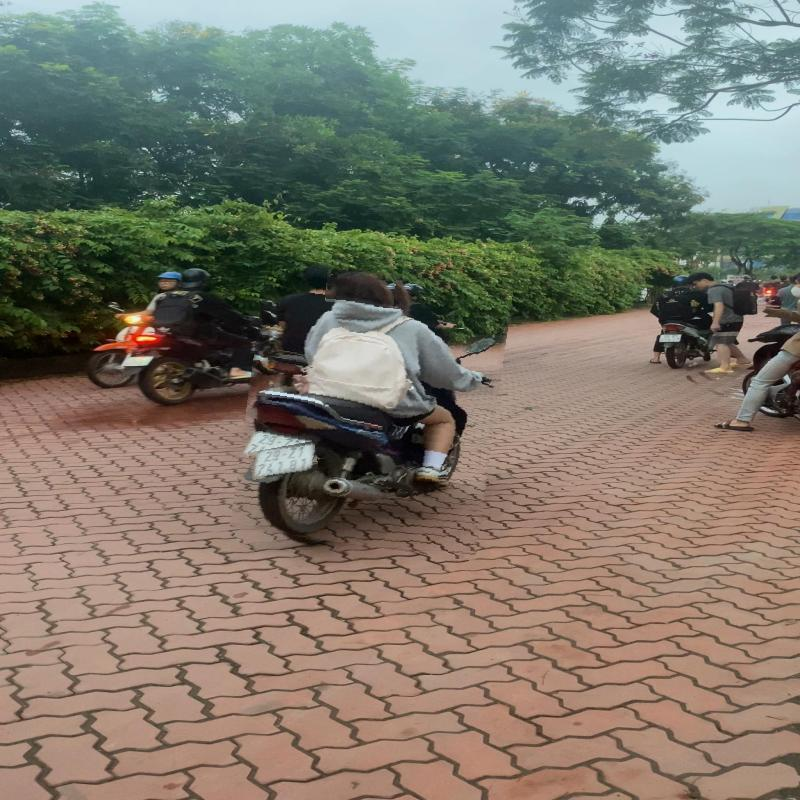licenseplate: (250, 444, 318, 478)
motorcyclist: (239, 264, 505, 554)
nohelmet: (325, 270, 396, 307)
